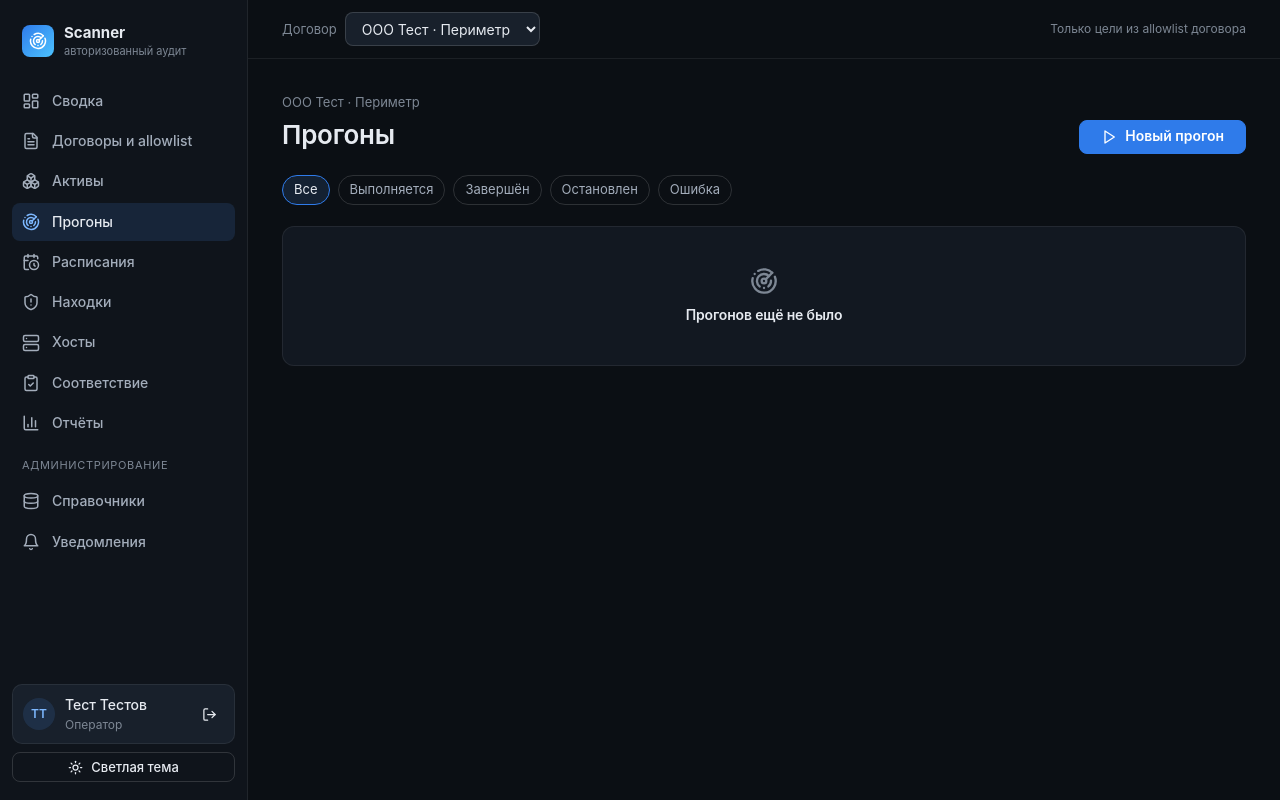
Test: модуль cred_audit в форме запуска › запуск требует подтверждения объёма работ
Click the button "Новый прогон": (1163, 136) [1079,120,1246,154]
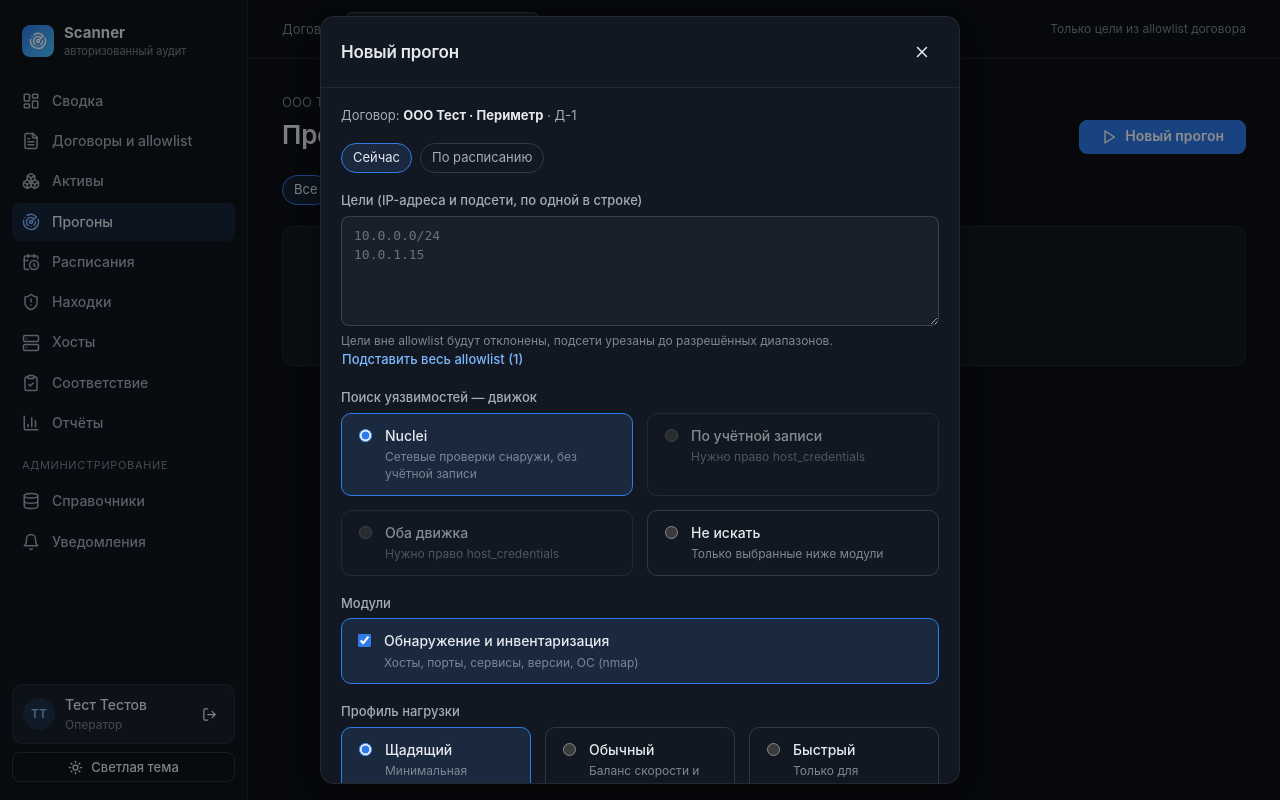
Click the button "Подставить весь allowlist (1)": (433, 360) [341,349,524,370]
(page scrolled)
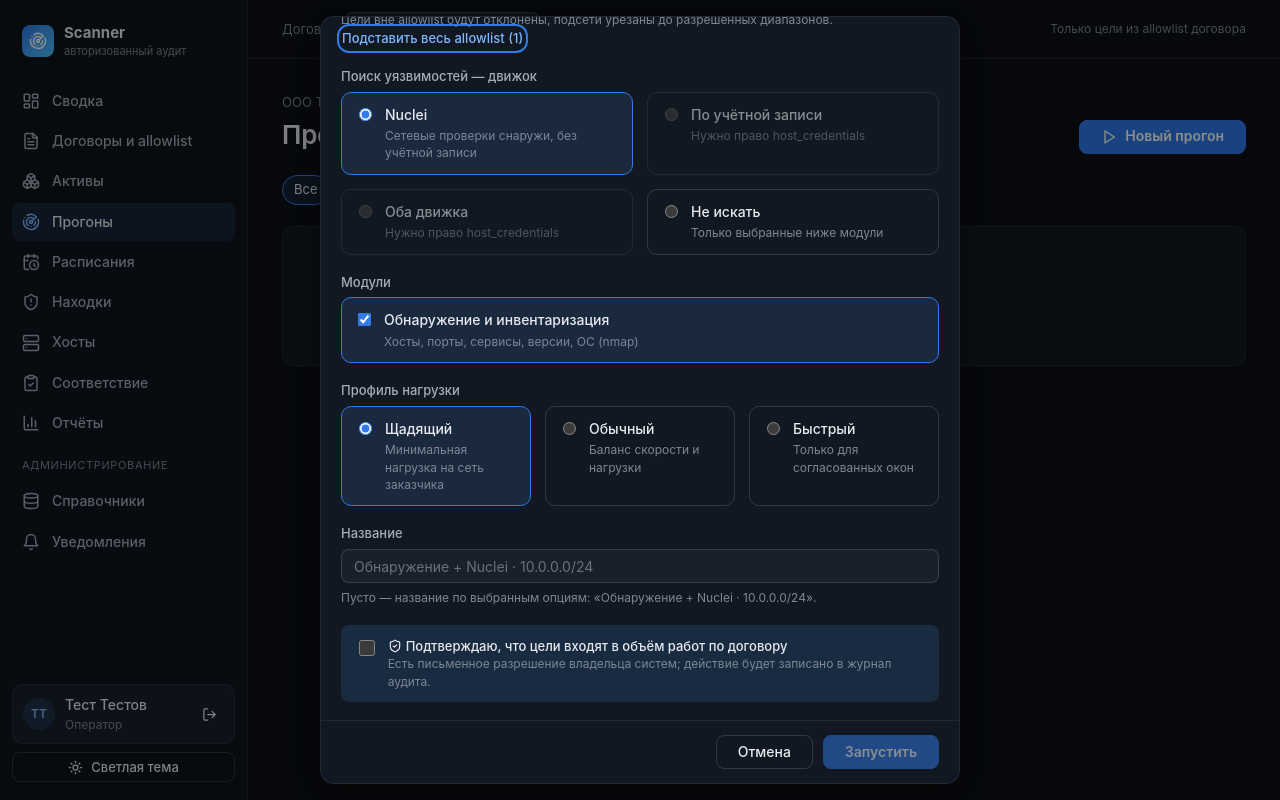
Expected: the button "Запустить" is disabled, [823,735,939,769]
Click the checkbox labelled "Подтверждаю": (367, 648) [359,640,375,656]
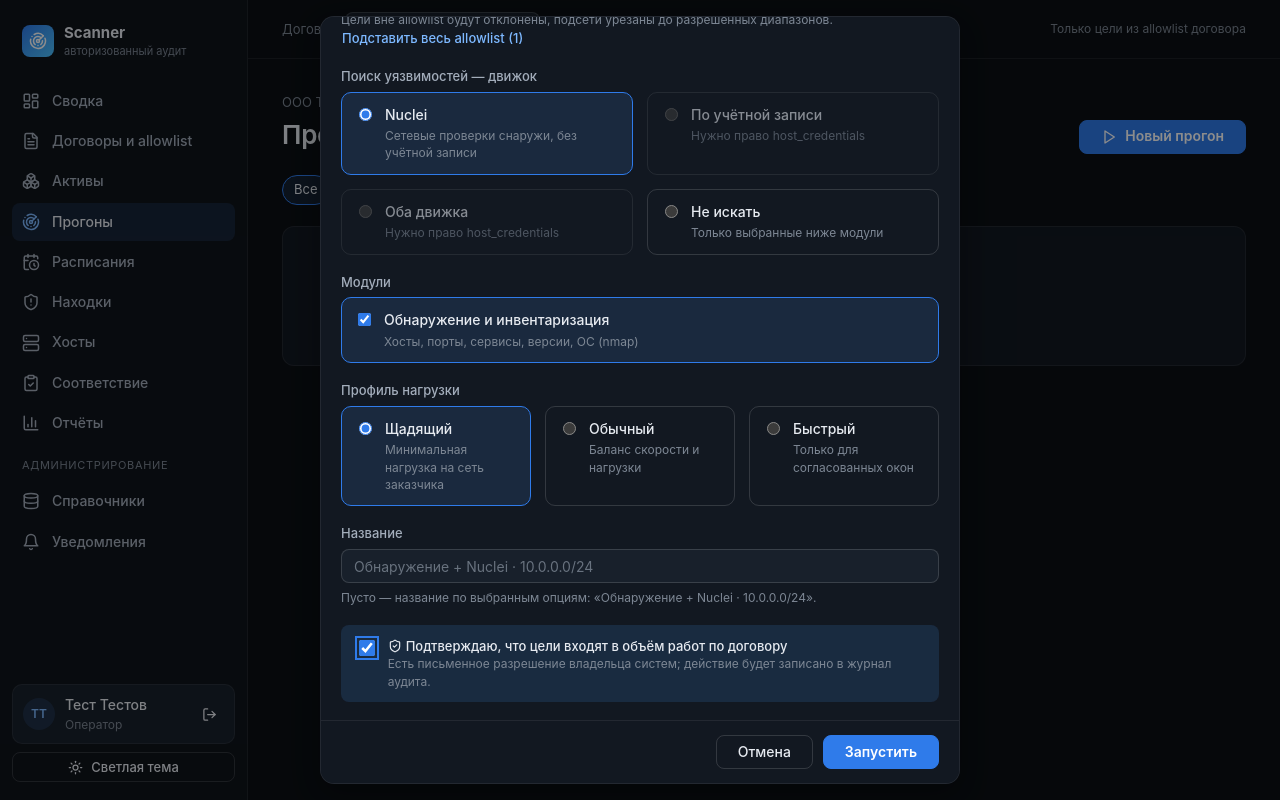
Expected: the button "Запустить" is enabled, [823,735,939,769]
